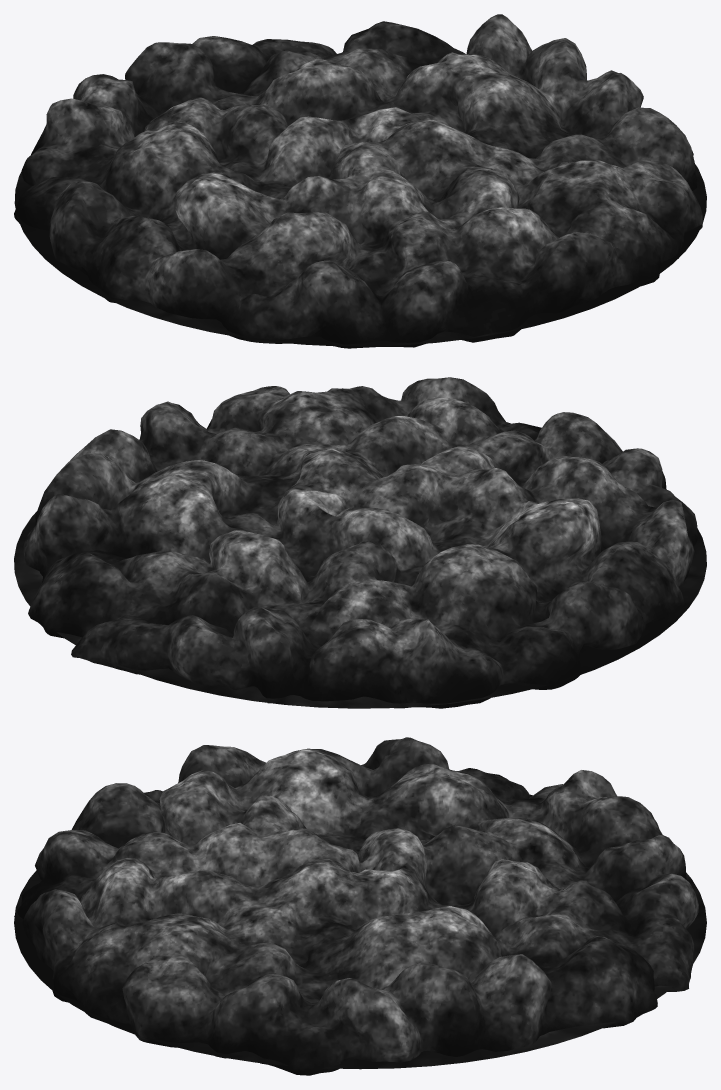
The model's file is coals.glb.
The picture shows the model from 3 angles, top to bottom: view 1: azimuth 30°, elevation 25°; view 2: azimuth 150°, elevation 25°; view 3: azimuth 270°, elevation 25°; orthographic projection.
Parts seen in each view (by area): view 1: HotCoals; view 2: HotCoals; view 3: HotCoals.
Part boxes in pixels (left/top/right/bottom): HotCoals: left=14, top=14, right=706, bottom=348; HotCoals: left=14, top=377, right=706, bottom=708; HotCoals: left=14, top=737, right=706, bottom=1075.
Bounding box in the file's own units: 0.066 × 0.00923 × 0.0655.
Materials: 1 (1 with a texture image).
